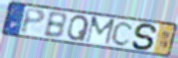B: (42, 11, 68, 40)
C: (110, 21, 135, 48)
M: (83, 16, 117, 47)
P: (20, 7, 47, 35)
Q: (66, 14, 91, 42)
S: (130, 22, 160, 52)
